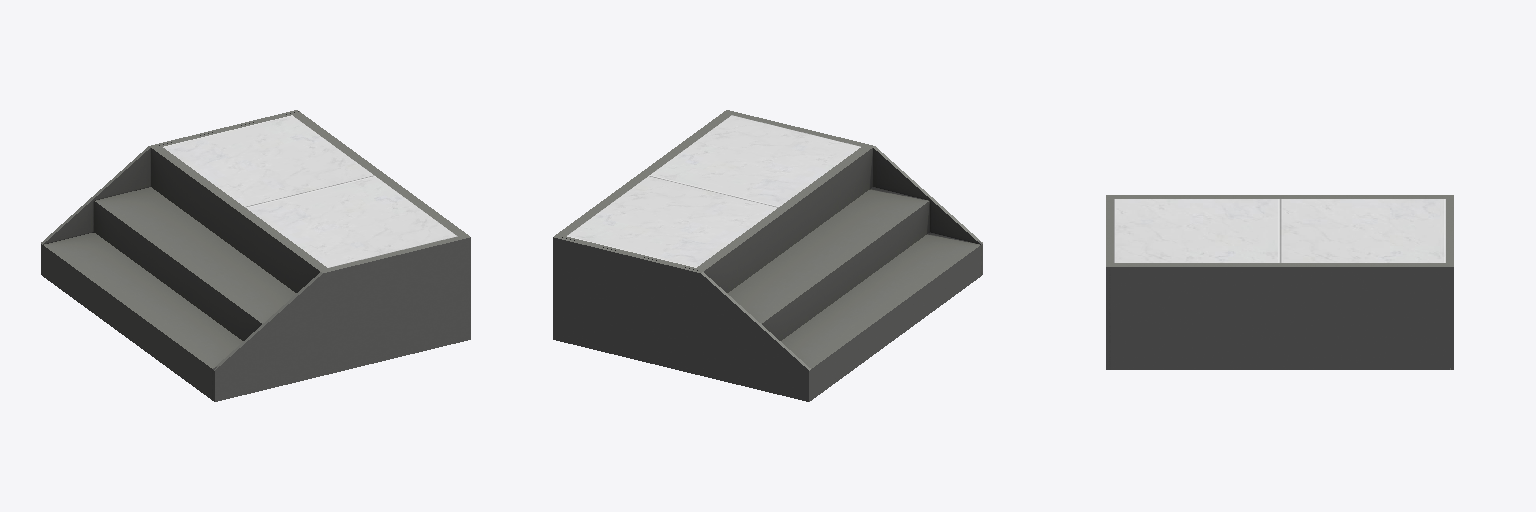
The picture shows the model from 3 angles: view 1: azimuth 30°, elevation 25°; view 2: azimuth 150°, elevation 25°; view 3: azimuth 270°, elevation 25°; orthographic projection.
Visible parts, largest first — view 1: Rectangle02; view 2: Rectangle02; view 3: Rectangle02.
Boxes of the visible parts, x1,y1,x2,y2 form: Rectangle02: [41, 110, 470, 401]; Rectangle02: [553, 110, 982, 401]; Rectangle02: [1106, 195, 1453, 369].
Size of the model in its own units: 105 by 40.15 by 124.
1 materials, 1 textured.